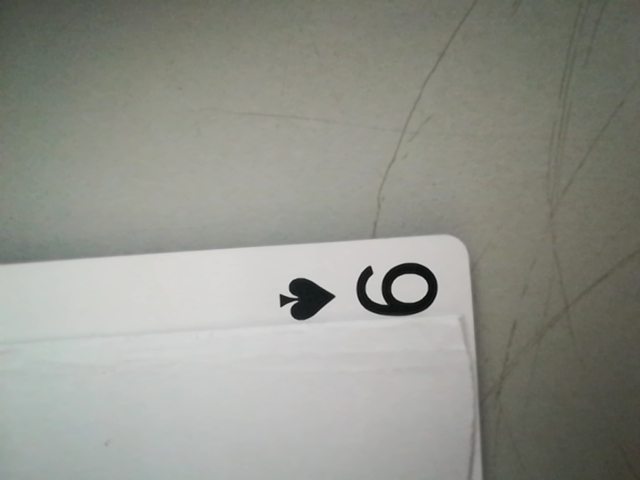ht 9: (263, 252, 458, 329)
